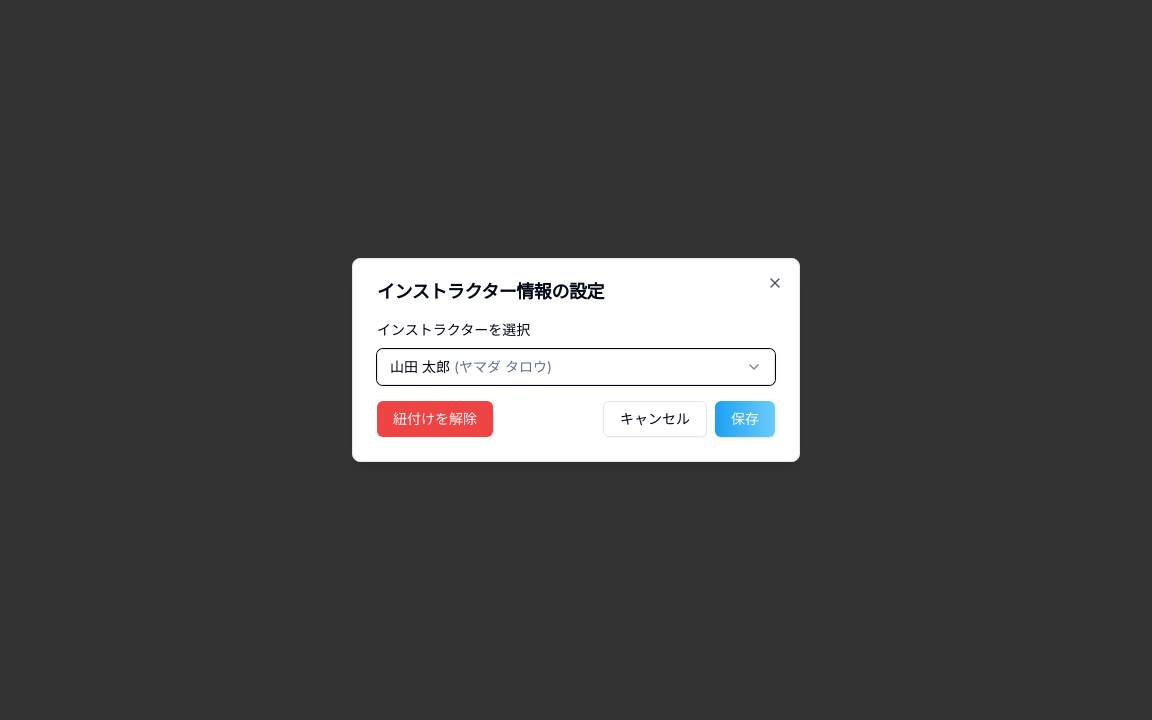
Test: InstructorSelectModal › Link Action - Error › エラー時、モーダルは閉じられない
Click the button "保存".
click(745, 419)  # box [715, 401, 775, 437]
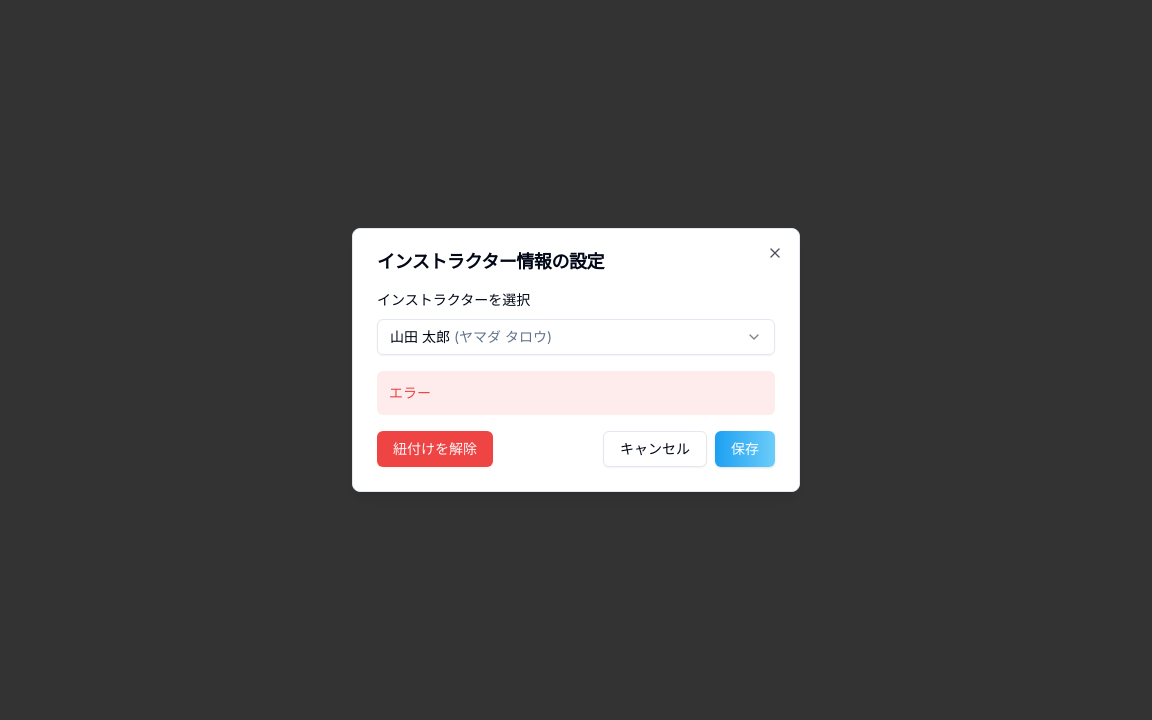
Check: the text "エラー" is shown, box [377, 371, 775, 415]
